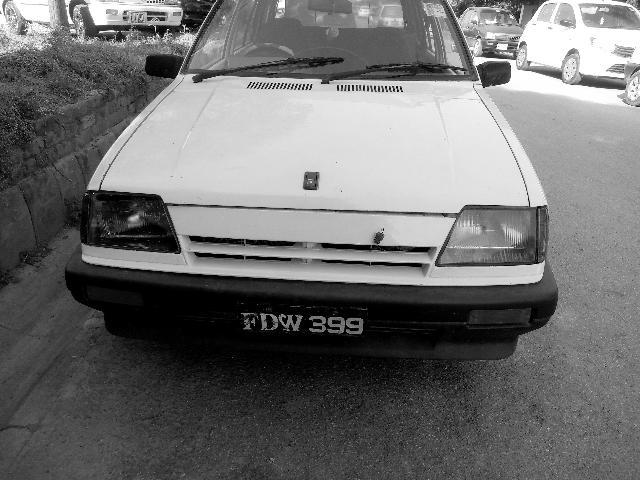Number: (240, 311, 364, 336)
